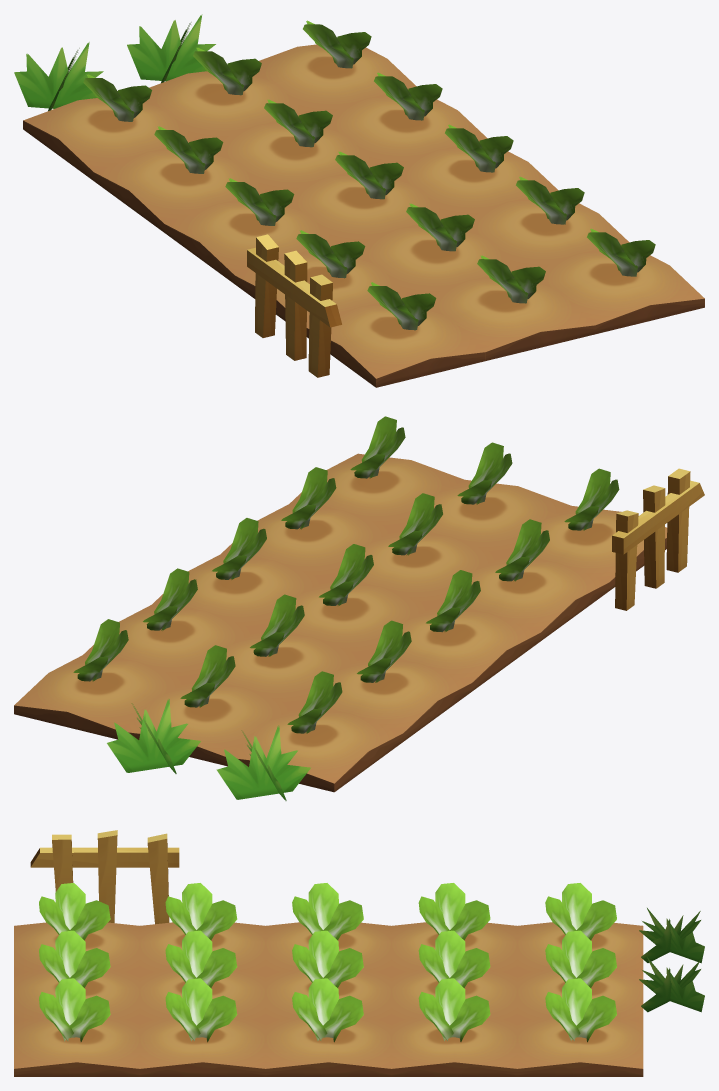
Rendered from nongtian.FBX.
3 views of the same model, one above another, from view 1: azimuth 30°, elevation 25°; view 2: azimuth 150°, elevation 25°; view 3: azimuth 270°, elevation 25° (orthographic). The views are drawn at different scales.
Visible parts, largest first — view 1: nongtian; view 2: nongtian; view 3: nongtian.
Boxes of the visible parts, bbox=[...] form: nongtian: bbox=[14, 14, 704, 387]; nongtian: bbox=[14, 416, 704, 800]; nongtian: bbox=[14, 830, 704, 1076].
Bounding box in the file's own units: 521 × 136 × 957.
